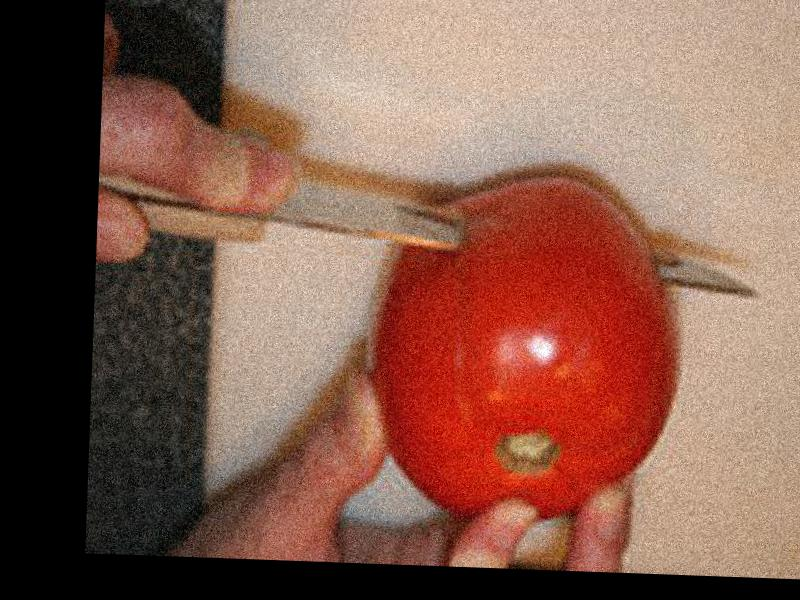Tomato: (368, 171, 688, 528)
